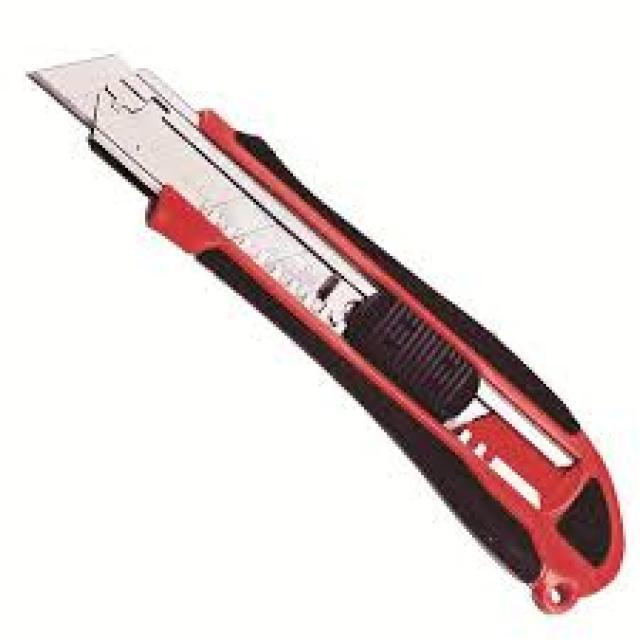Knife: (31, 54, 623, 609)
